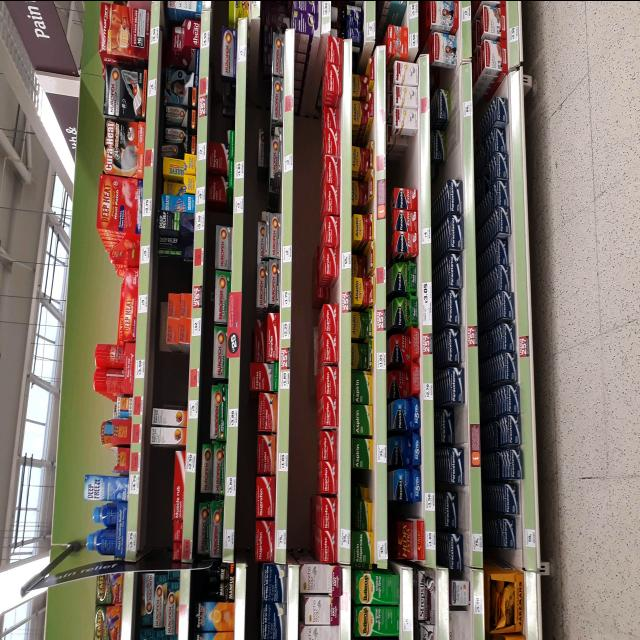empty_space: (158, 254, 190, 286), (158, 358, 186, 390), (446, 118, 462, 166), (394, 150, 415, 180), (321, 283, 335, 303)
